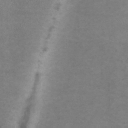finishing roll printing: (16, 71, 40, 128), (46, 26, 55, 40), (52, 2, 64, 12), (42, 46, 48, 52)
